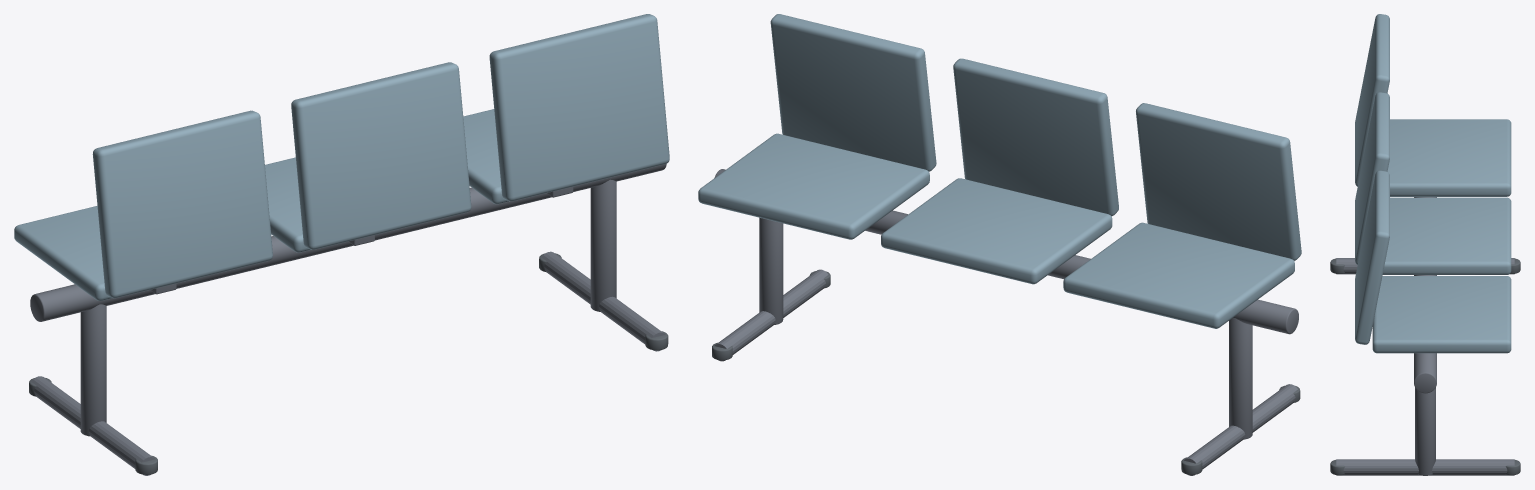
Rendered from waiting_bench.glb.
3 views of the same model, side by side, from view 1: azimuth 30°, elevation 25°; view 2: azimuth 150°, elevation 25°; view 3: azimuth 270°, elevation 25° (orthographic). The views are drawn at different scales.
Parts seen in each view (by area): view 1: BackPan_1, BackPan_2, BackPan_0, MainBeam, SeatPan_0, LegVertical_L, LegVertical_R, SeatPan_2, SeatPan_1, FootBar_L, FootBar_R; view 2: BackPan_1, BackPan_2, BackPan_0, SeatPan_2, SeatPan_1, SeatPan_0, LegVertical_L, MainBeam, LegVertical_R, FootBar_L, FootBar_R; view 3: SeatPan_2, SeatPan_1, SeatPan_0, BackPan_2, BackPan_1, BackPan_0, FootBar_R, LegVertical_R, MainBeam, FootBar_L.
Part boxes in pixels (<box>): BackPan_1: <box>291,62,471,249</box>; BackPan_2: <box>489,14,669,201</box>; BackPan_0: <box>92,110,272,298</box>; MainBeam: <box>30,164,666,321</box>; SeatPan_0: <box>14,206,112,300</box>; LegVertical_L: <box>80,304,106,436</box>; LegVertical_R: <box>590,179,616,311</box>; SeatPan_2: <box>463,109,509,204</box>; SeatPan_1: <box>265,157,310,252</box>; FootBar_L: <box>31,376,155,475</box>; FootBar_R: <box>541,251,665,351</box>; BackPan_1: <box>953,58,1118,216</box>; BackPan_2: <box>770,14,936,171</box>; BackPan_0: <box>1136,103,1301,260</box>; SeatPan_2: <box>698,133,929,239</box>; SeatPan_1: <box>881,178,1112,284</box>; SeatPan_0: <box>1063,222,1294,328</box>; LegVertical_L: <box>1229,318,1252,439</box>; MainBeam: <box>714,169,1298,334</box>; LegVertical_R: <box>759,217,783,324</box>; FootBar_L: <box>1184,384,1297,475</box>; FootBar_R: <box>714,269,828,361</box>; SeatPan_2: <box>1372,276,1511,353</box>; SeatPan_1: <box>1382,197,1511,274</box>; SeatPan_0: <box>1387,119,1511,196</box>; BackPan_2: <box>1355,170,1389,344</box>; BackPan_1: <box>1355,92,1389,264</box>; BackPan_0: <box>1355,14,1389,186</box>; FootBar_R: <box>1336,459,1514,475</box>; LegVertical_R: <box>1415,388,1435,475</box>; MainBeam: <box>1414,197,1436,393</box>; FootBar_L: <box>1336,258,1514,274</box>.
Size of the model in its own units: 1.76 by 0.8386 by 0.576.
